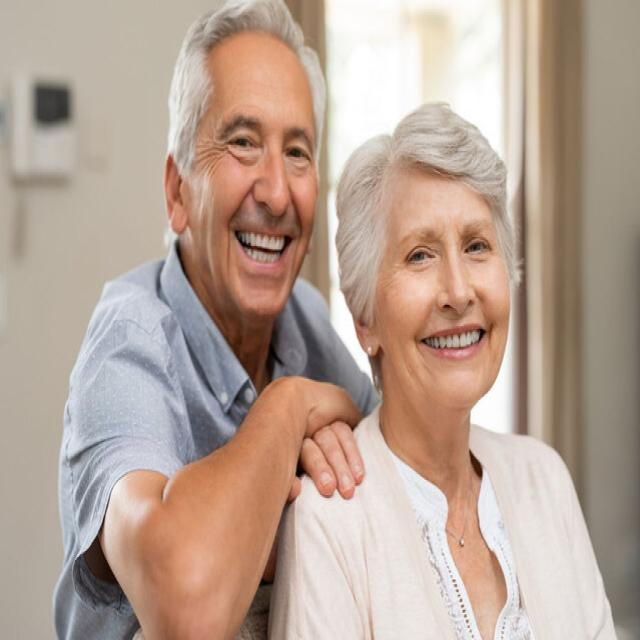Nonhelmet: (332, 96, 524, 414), (156, 2, 333, 327)
